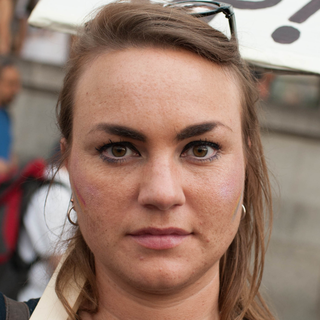eye: (92, 138, 145, 164), (178, 136, 225, 163)
